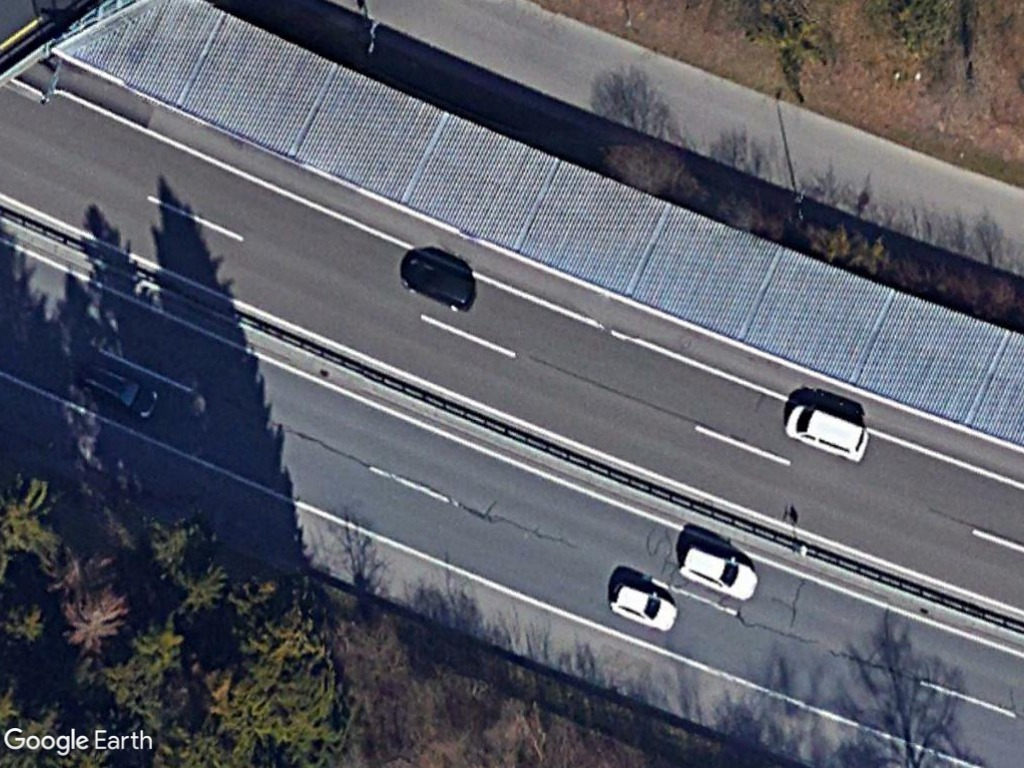car: (678, 541, 760, 604), (604, 579, 683, 640)
van: (780, 399, 874, 466)
